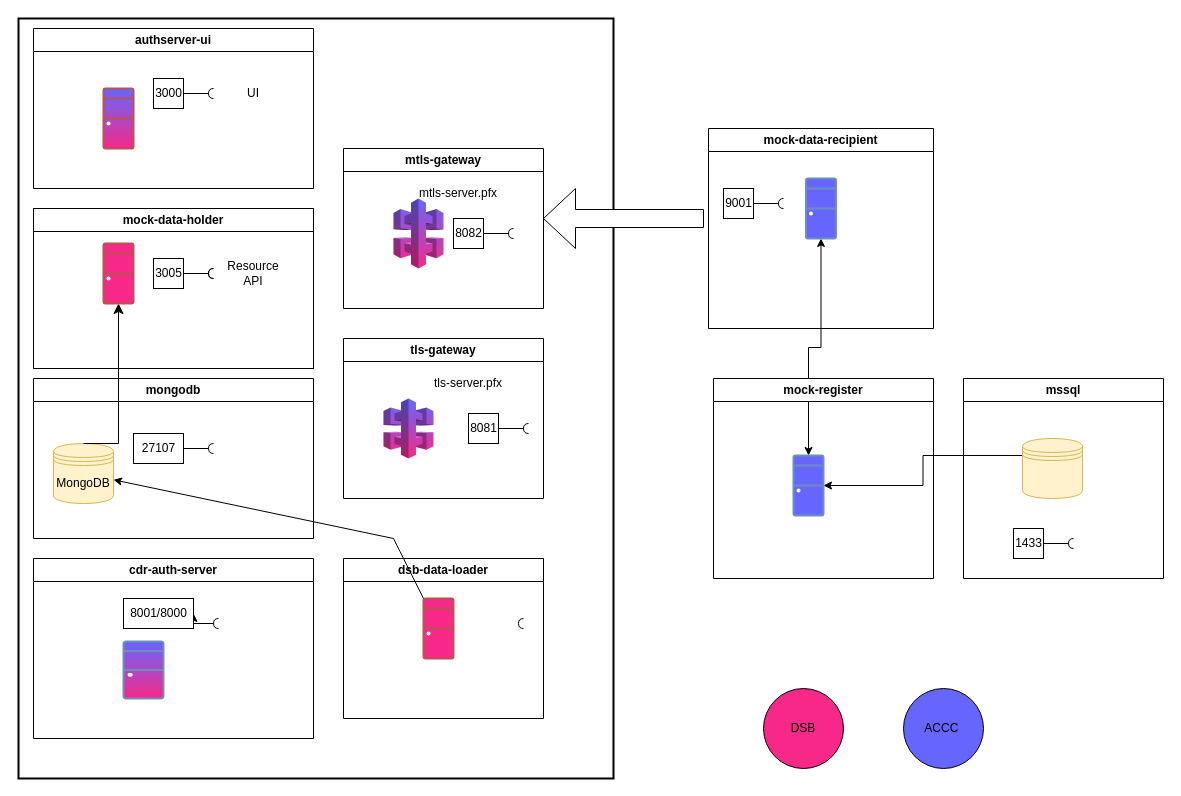
Image size: 1181x796. Some labels were removed from this diagram. Each missing label, with the centre of its shape:
"cdradmin/dsb-data-loader" belongs at pixel 438 628.
"client.pfx" belongs at pixel 623 218.
"consumerdataright/mock-data-recipient" belongs at pixel 820 208.
"consumerdataright/mock-register" belongs at pixel 808 485.
"i: cdradmin/dsn-data-loader" belongs at pixel 118 273.
"i: cdradmin/mtls-gateway" belongs at pixel 418 233.
"i: cdradmin/tls-gateway" belongs at pixel 408 428.
"image: cdradmin/authserver-ui" belongs at pixel 118 118.
"image: cdradmin/cdr-auth-server" belongs at pixel 143 669.
"MS SQL" belongs at pixel 1052 468.
